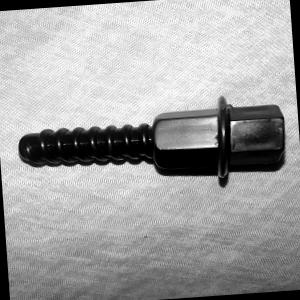parafuso: (14, 92, 291, 192)
